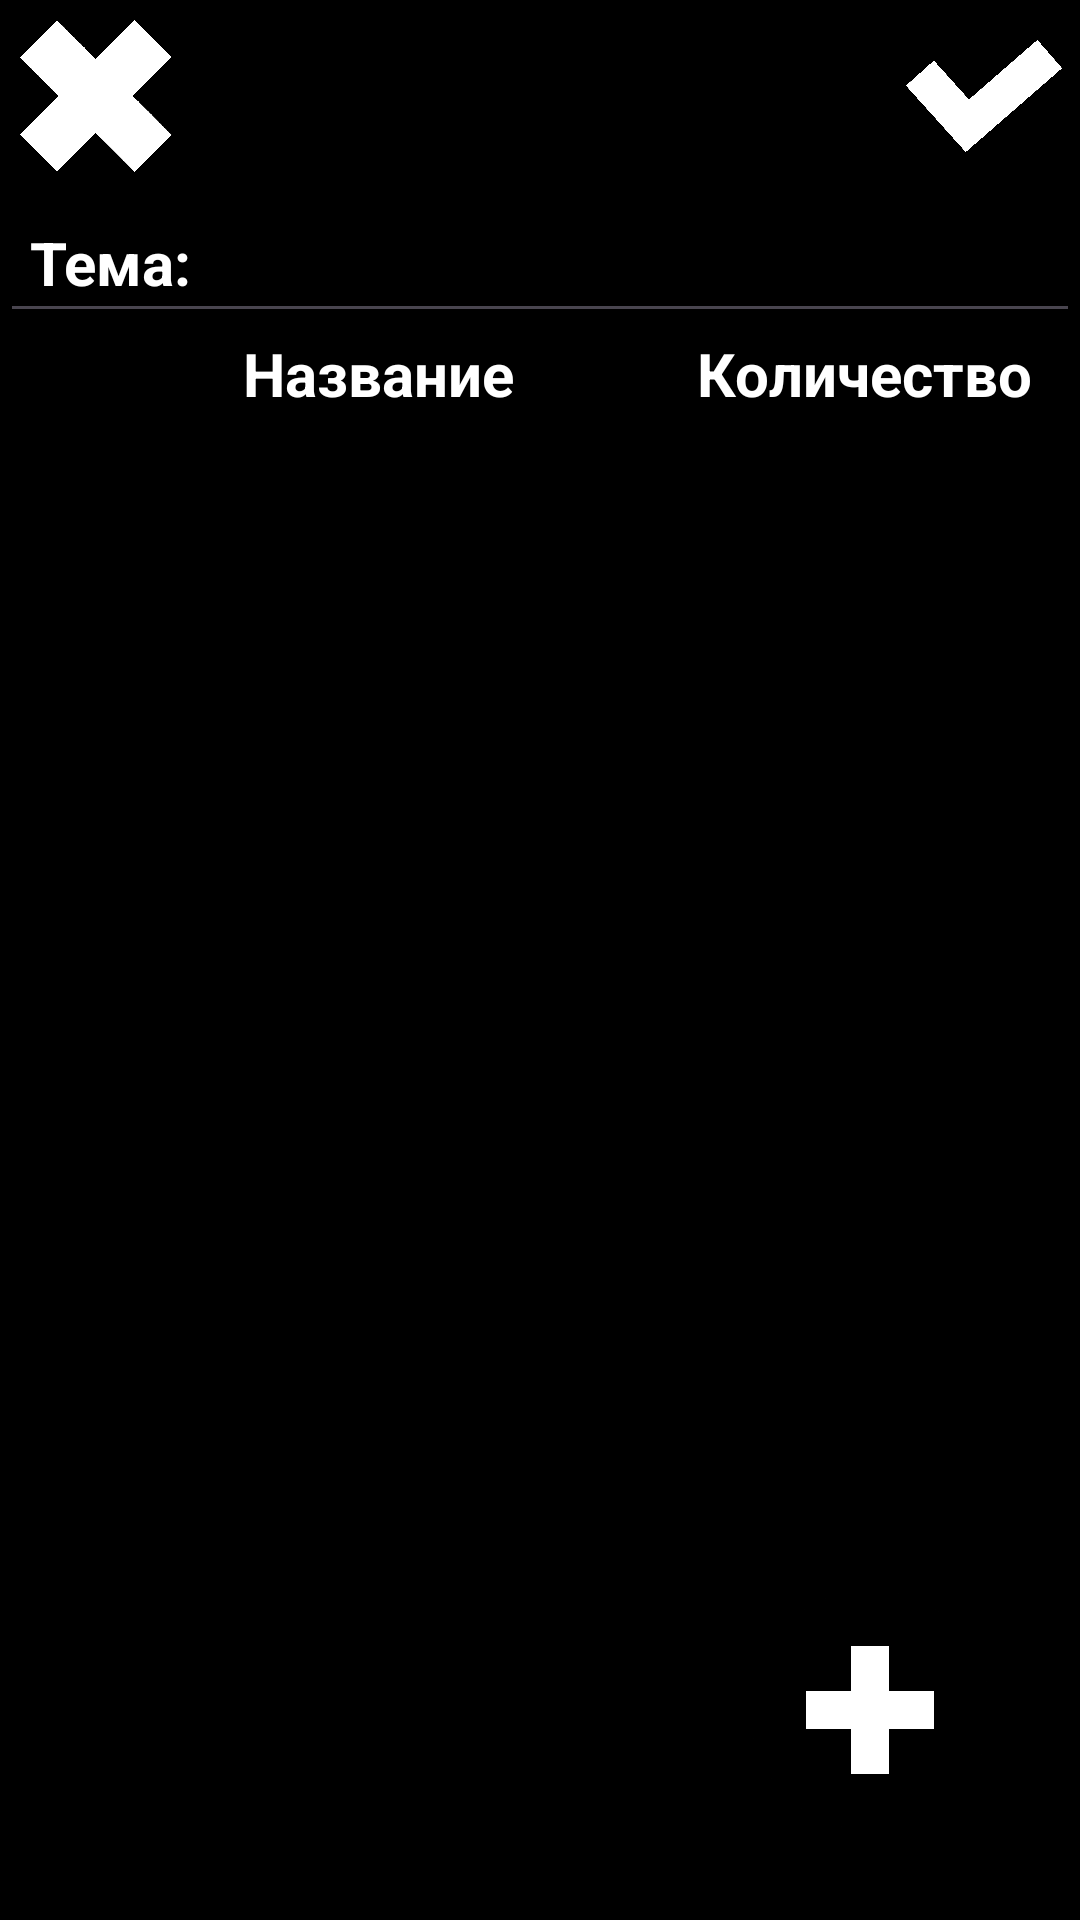

Screen size 1080*1920. Icon name, then its box in pixels as [x1,y1,x2,y2]:
add: [806,1646,934,1774]
cancellation: [20,20,171,172]
save: [906,40,1062,152]
